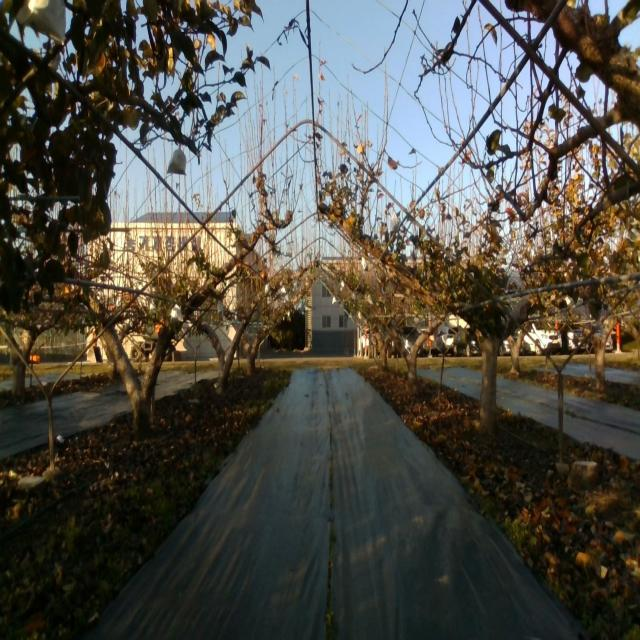pearbags: (14, 0, 67, 45), (167, 148, 187, 177), (170, 304, 184, 325), (390, 213, 400, 233)
